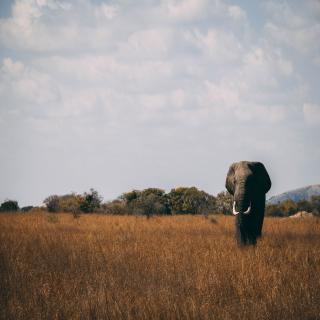Elephant: (224, 158, 274, 248)
